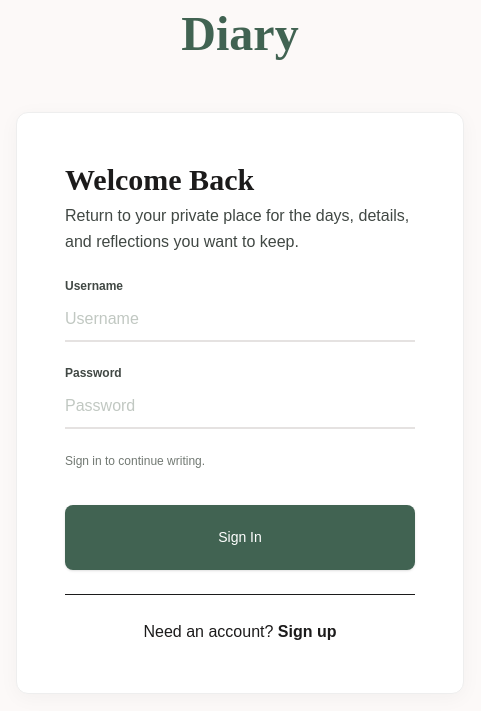
Test: SigninPage › shows invalid credentials feedback from Auth.js
This screenshot has width=481, height=711.
Type "person_test" into the field labelled "Username" at (240, 320), box [65,298,415,342]
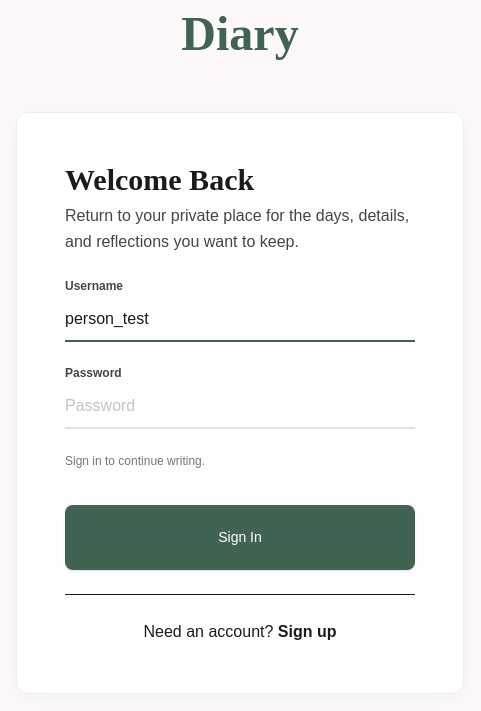
Type "wrong-password" into the password field labelled "Password" at (240, 406), box [65,384,415,428]
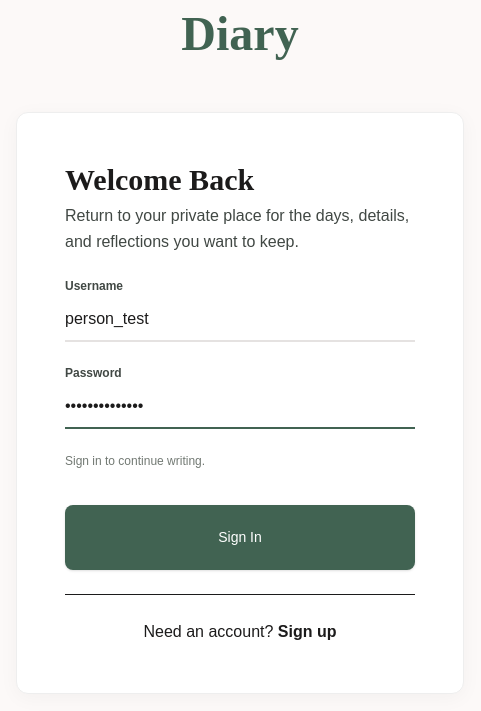
Click the button "Sign In" at (240, 537), box [65,504,415,570]
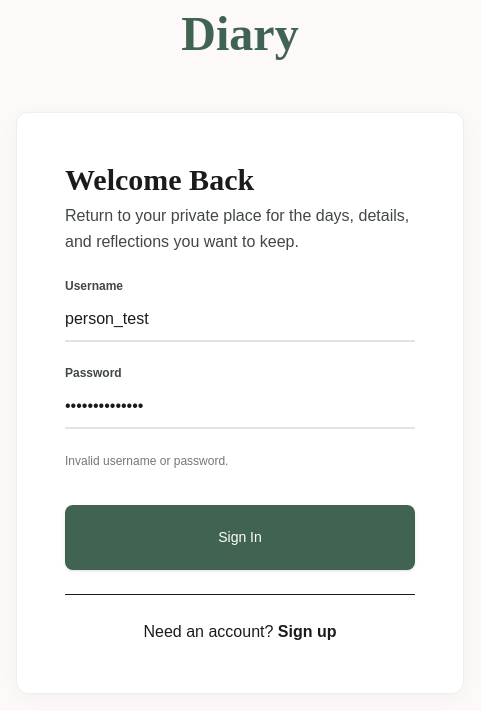
Expected: the text "Invalid username or password." is shown, [65,454,228,468]
